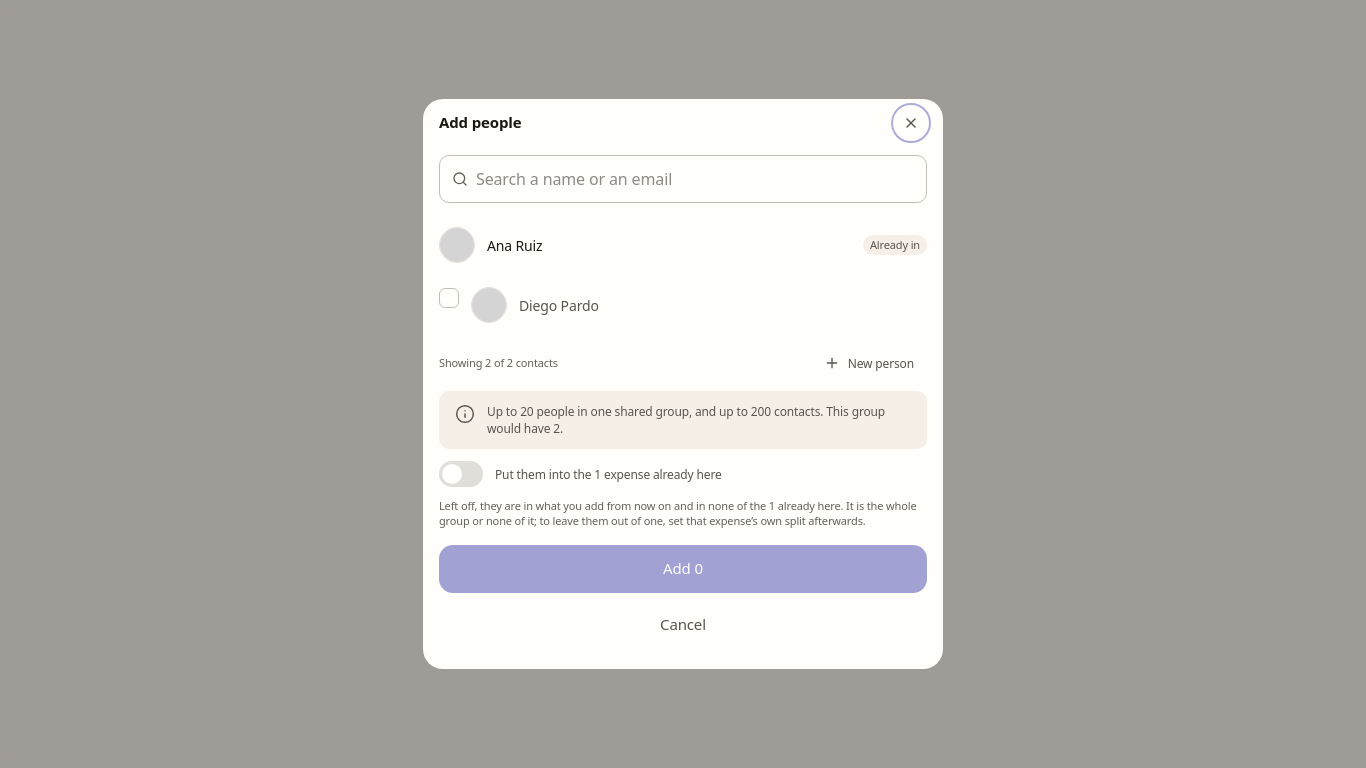
it: adding people to a group that exists › shows the whole result before it happens once it is asked
Click the checkbox labelled "Diego Pardo": (519, 305) [439,287,599,323]
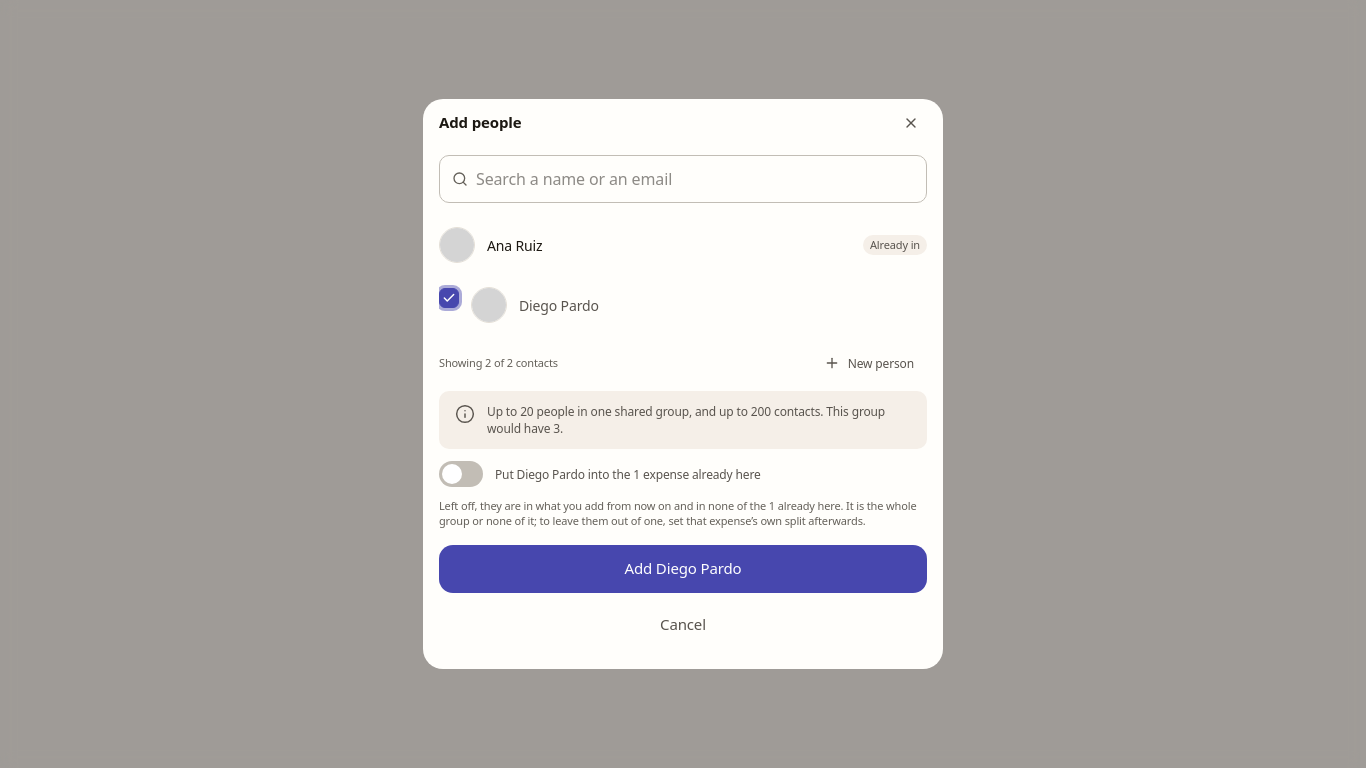
Click the switch: (461, 474) [439,462,483,488]
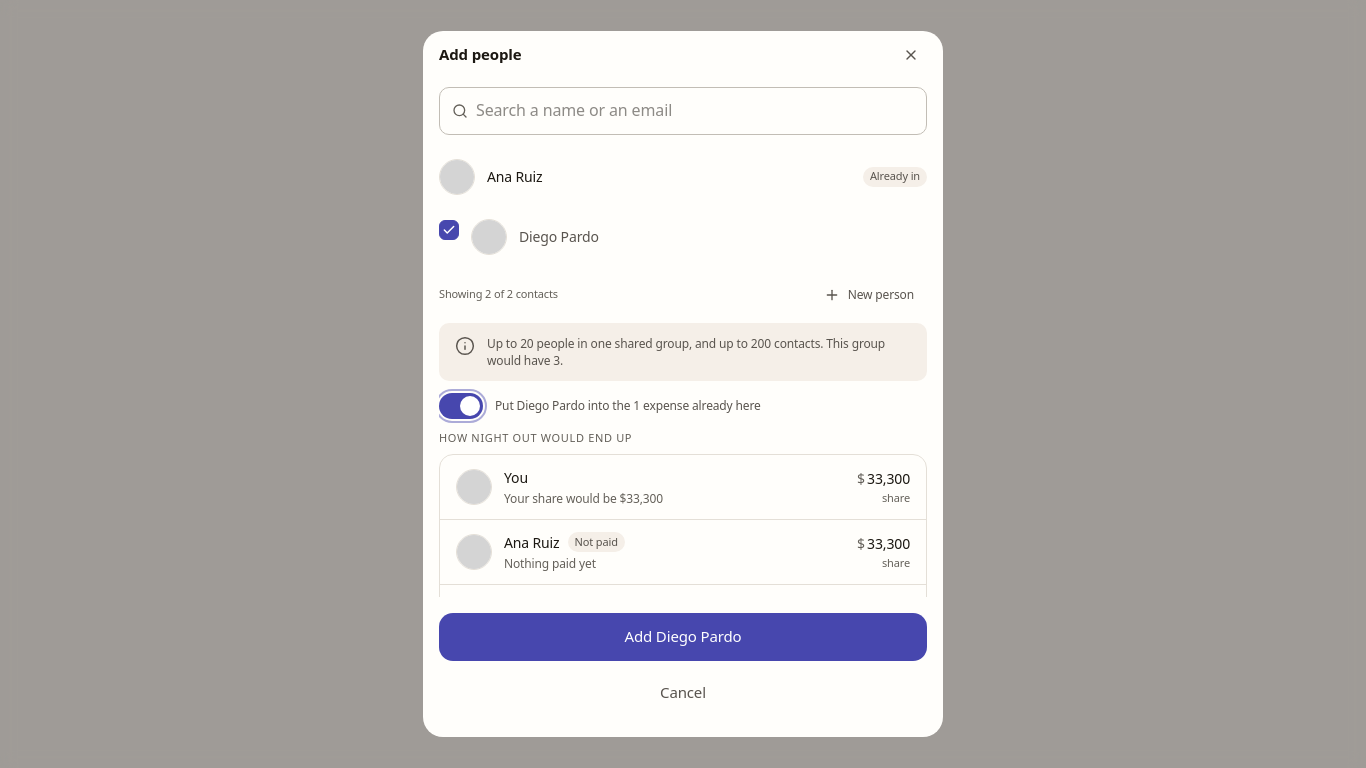
Expected: the text "Your share would be $33,300" is shown, [504,490,663,507]
